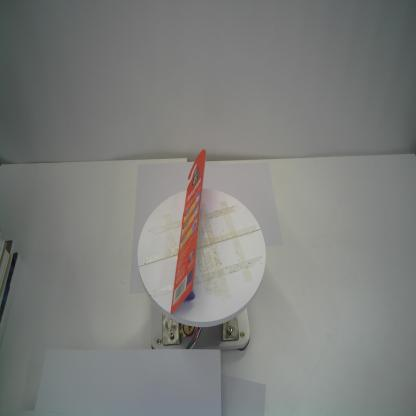Personal Hygiene: (170, 149, 206, 313)
